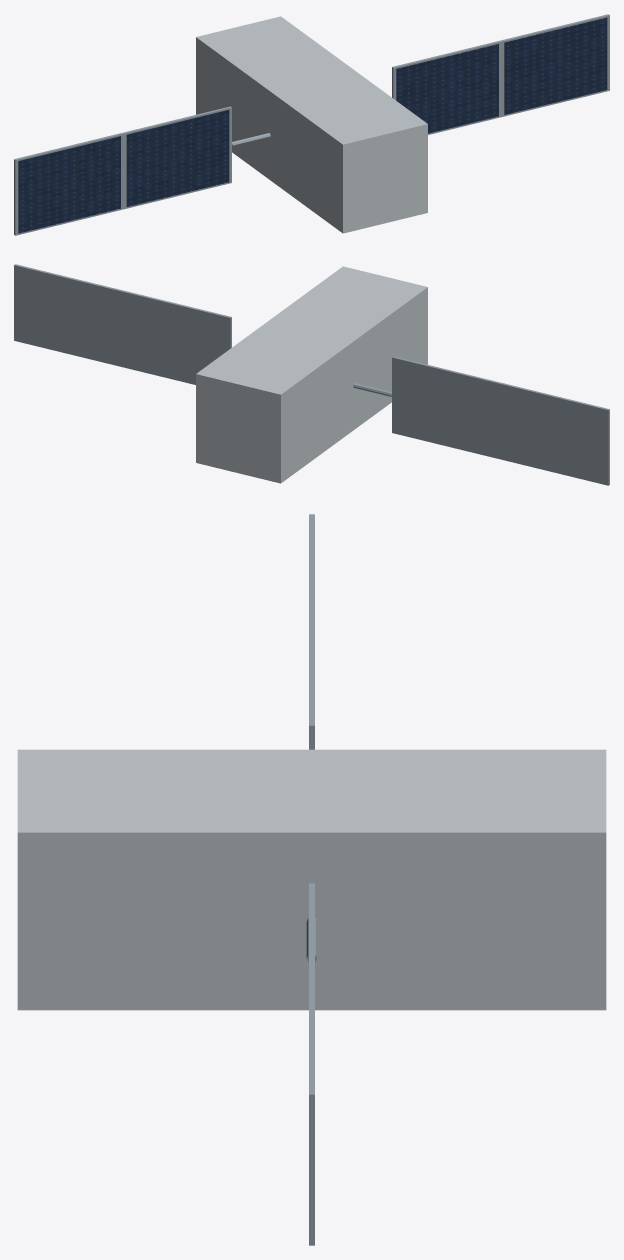
File: ref-mn100-101142.glb
3 renders of one model, top to bottom at view 1: azimuth 30°, elevation 25°; view 2: azimuth 150°, elevation 25°; view 3: azimuth 270°, elevation 25°, orthographic. The views are drawn at different scales.
Visible parts, largest first — view 1: Spacecraft body, Photovoltaic laminates (×4), Array frame (×4); view 2: Array frame (×4), Spacecraft body; view 3: Spacecraft body, Array frame.
Boxes of the visible parts, box(x1,y1,x2,y2) form: Spacecraft body: box(196, 16, 427, 233); Photovoltaic laminates (×4): box(18, 17, 607, 233); Array frame (×4): box(14, 14, 609, 235); Array frame (×4): box(14, 264, 609, 485); Spacecraft body: box(196, 266, 427, 483); Spacecraft body: box(17, 749, 606, 1010); Array frame: box(309, 989, 314, 1245).
Bounding box in the file's own units: 7 × 1 × 3.
Materials: 3 (1 with a texture image).
